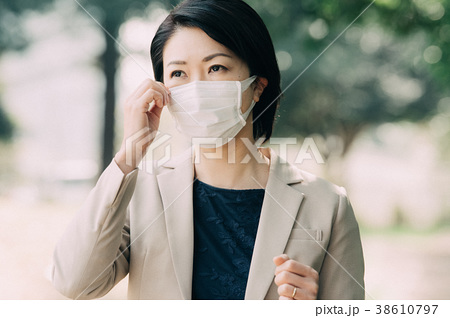mask: (162, 79, 249, 158)
